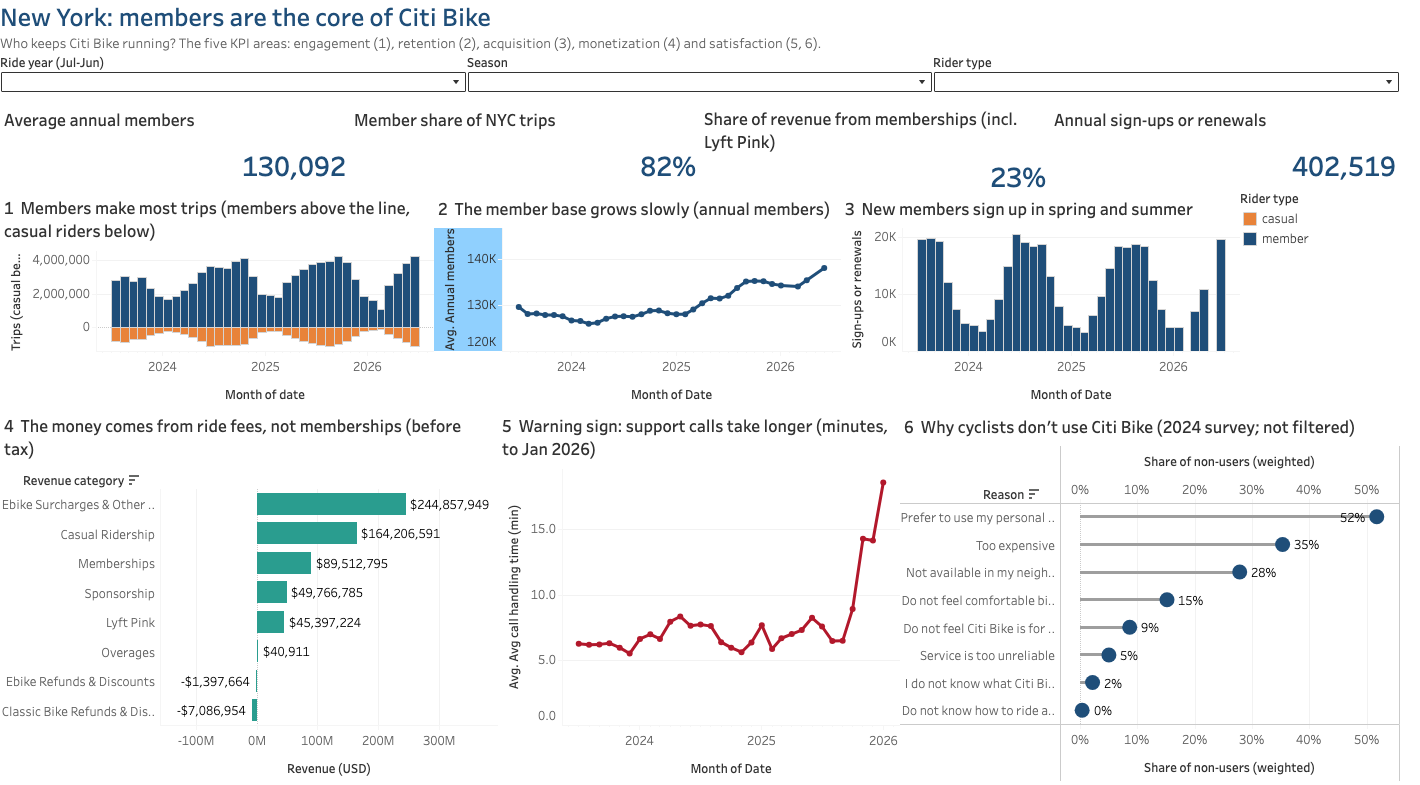

The page's visual inventory and layout, read from the dashboard file:
{"tool":"tableau","page":{"name":"1 New York","canvas":[1400,880],"ordinal":0},"visuals":[{"type":"text","box":[0,0,1400,59.3]},{"type":"parameter","param":"[Parameters].[P_Year]","box":[0,59.3,280,49.4]},{"type":"parameter","param":"[Parameters].[P_Season]","box":[280,59.3,280,49.4]},{"type":"parameter","param":"[Parameters].[P_Rider]","box":[560,59.3,280,49.4]},{"type":"worksheet","title":"T1 members","mark":"Text","box":[0,108.8,350,89]},{"type":"worksheet","title":"T1 share","mark":"Text","box":[350,108.8,350,89]},{"type":"worksheet","title":"T1 revenue","mark":"Text","box":[700,108.8,350,89]},{"type":"worksheet","title":"T1 signups","mark":"Text","box":[1050,108.8,350,89]},{"type":"worksheet","title":"N1 trips","mark":"Bar","rows":["signed_trips"],"cols":["date"],"box":[0,197.7,427,296.6]},{"type":"worksheet","title":"N2 members","mark":"Line","rows":["total_annual_members"],"cols":["month_start"],"box":[427,197.7,427,296.6]},{"type":"worksheet","title":"N3 signups","mark":"Bar","rows":["annual_signups_or_renewals"],"cols":["month_start"],"box":[854,197.7,427,296.6]},{"type":"legend","title":"N1 trips","param":"[federated.fbedf4c5428e40d0b2d700440ef2].[none:rider_type:nk]","box":[1281,197.7,119,296.6]},{"type":"worksheet","title":"N4 revenue","mark":"Bar","rows":["category"],"cols":["amount_mtd_usd"],"box":[0,494.4,466.7,296.6]},{"type":"worksheet","title":"N5 handling","mark":"Line","rows":["avg_handle_minutes"],"cols":["month_start"],"box":[466.7,494.4,466.7,296.6]},{"type":"worksheet","title":"N6 reasons","mark":"Automatic","rows":["reason"],"cols":["weighted_share_of_non_users","share2"],"box":[933.3,494.4,466.7,296.6]},{"type":"text","box":[0,791,1400,89]}]}

Visuals, with their boxes on the page's 1400x880 design canvas (x1, y1, x2, y2). These are canvas units, not pixel positions in the 1420x785 screenshot, which may show the page scaled, cropped or inside an application window:
text: x1=0 y1=0 x2=1400 y2=59
parameter: x1=0 y1=59 x2=280 y2=109
parameter: x1=280 y1=59 x2=560 y2=109
parameter: x1=560 y1=59 x2=840 y2=109
"T1 members" worksheet (Text marks): x1=0 y1=109 x2=350 y2=198
"T1 share" worksheet (Text marks): x1=350 y1=109 x2=700 y2=198
"T1 revenue" worksheet (Text marks): x1=700 y1=109 x2=1050 y2=198
"T1 signups" worksheet (Text marks): x1=1050 y1=109 x2=1400 y2=198
"N1 trips" worksheet (Bar marks): x1=0 y1=198 x2=427 y2=494
"N2 members" worksheet (Line marks): x1=427 y1=198 x2=854 y2=494
"N3 signups" worksheet (Bar marks): x1=854 y1=198 x2=1281 y2=494
"N1 trips" legend: x1=1281 y1=198 x2=1400 y2=494
"N4 revenue" worksheet (Bar marks): x1=0 y1=494 x2=467 y2=791
"N5 handling" worksheet (Line marks): x1=467 y1=494 x2=933 y2=791
"N6 reasons" worksheet: x1=933 y1=494 x2=1400 y2=791
text: x1=0 y1=791 x2=1400 y2=880
